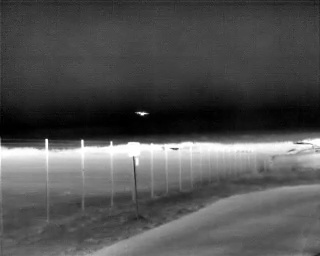AIRPLANE: (134, 109, 151, 118)
